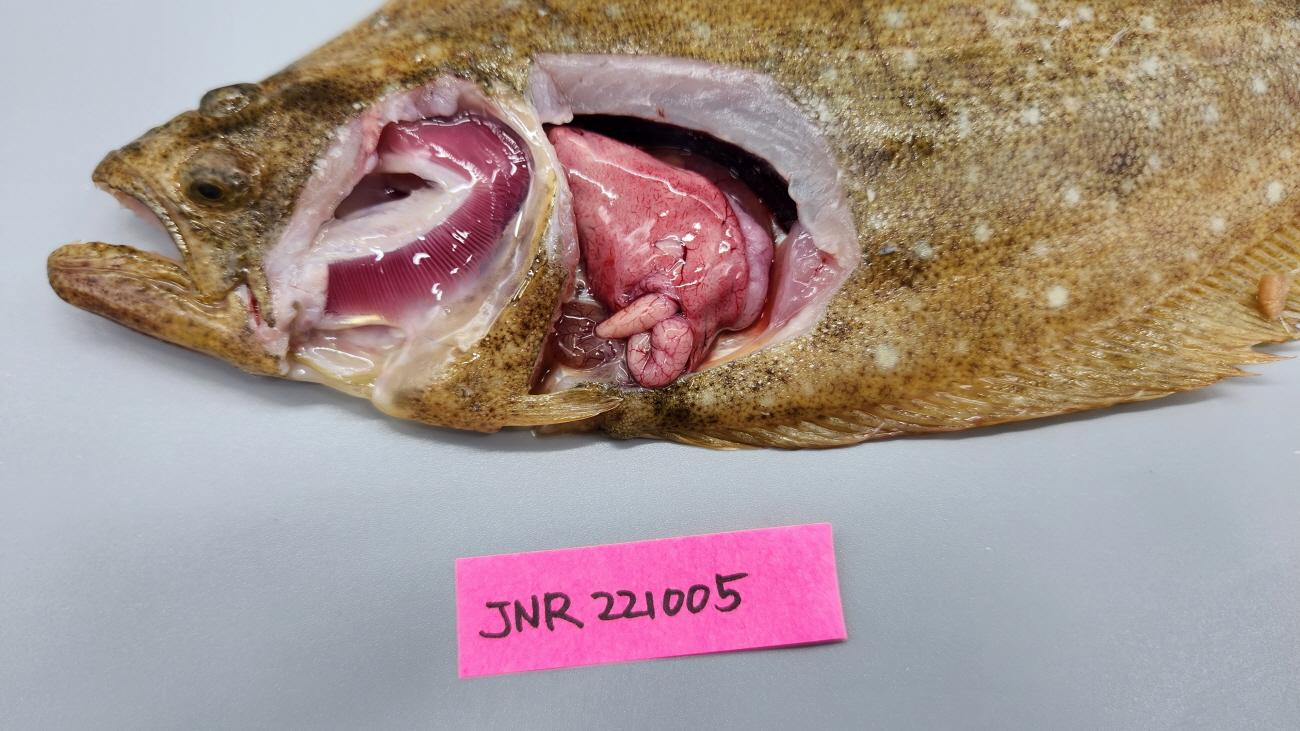POGIN: (325, 113, 531, 323)
POLIN: (547, 125, 749, 374)
